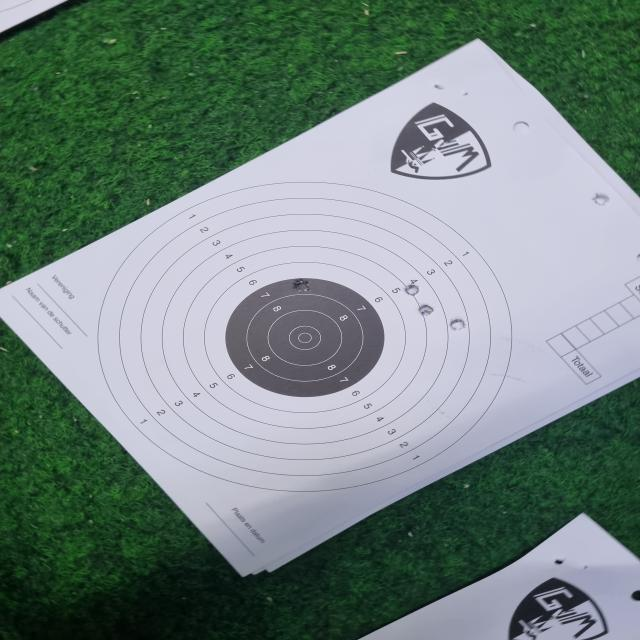0: (592, 194, 610, 206)
3: (450, 318, 466, 331)
5: (418, 304, 434, 316), (404, 284, 419, 296)
7: (293, 278, 310, 292)
Target: (96, 182, 532, 493)
black_contour: (227, 277, 383, 399)
